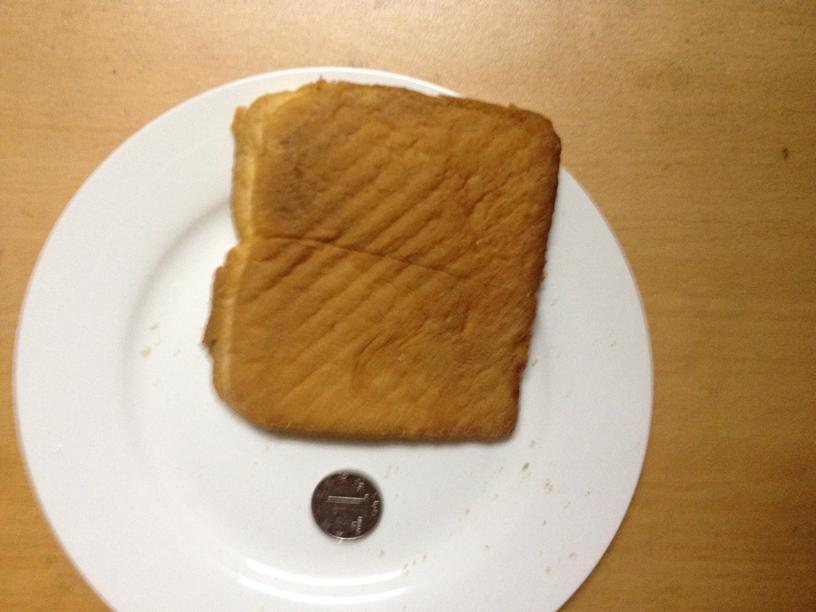bread: (214, 72, 555, 442)
coin: (310, 470, 382, 540)
